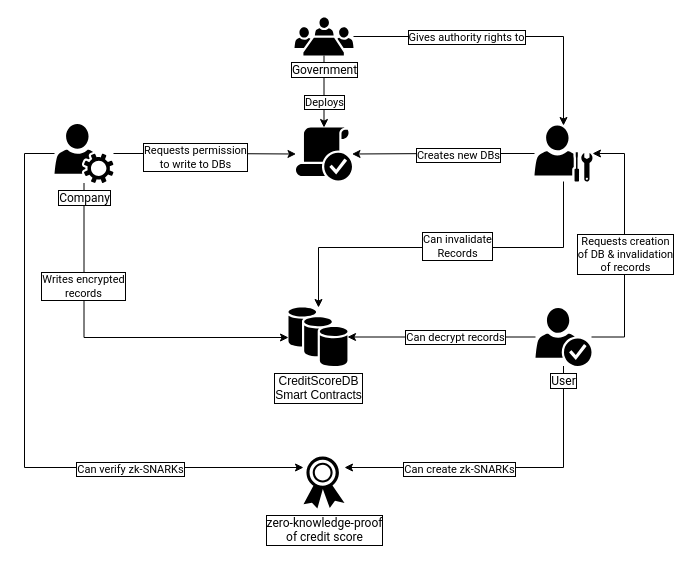
Some shapes in this 691 by 563 pixel diagram are drawn without their labels. The centre of each missing label's shape, as x and y in pixels:
Authority Smart Contract: point 324,153
Tax Office: point 563,153
